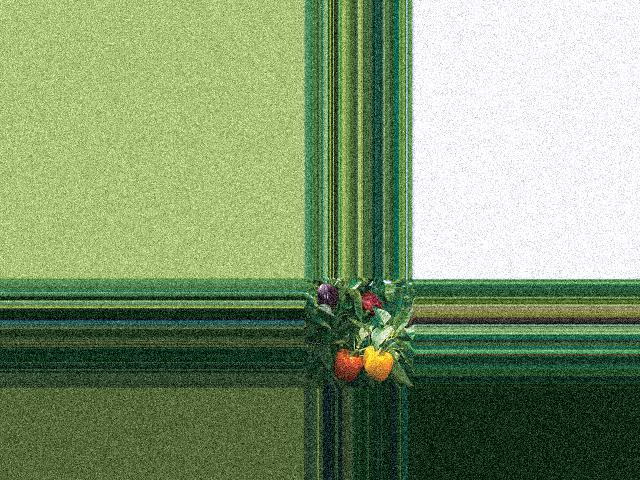bell_pepper: (355, 344, 393, 380)
